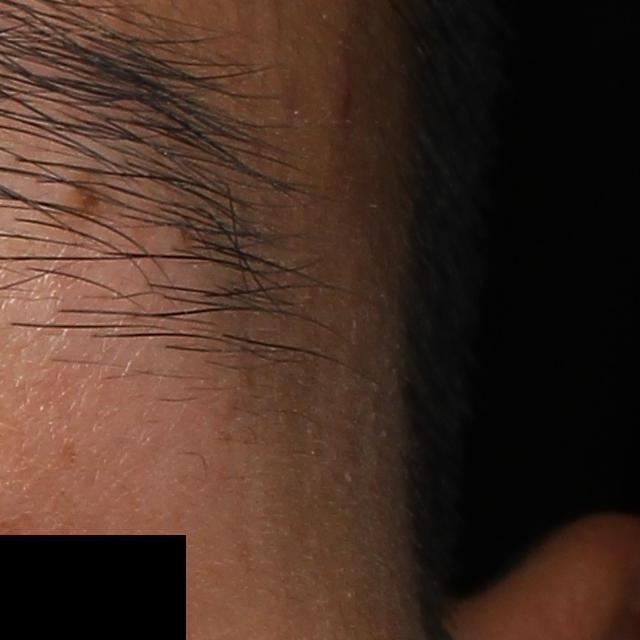melasma: (56, 174, 119, 222), (54, 435, 82, 468)
